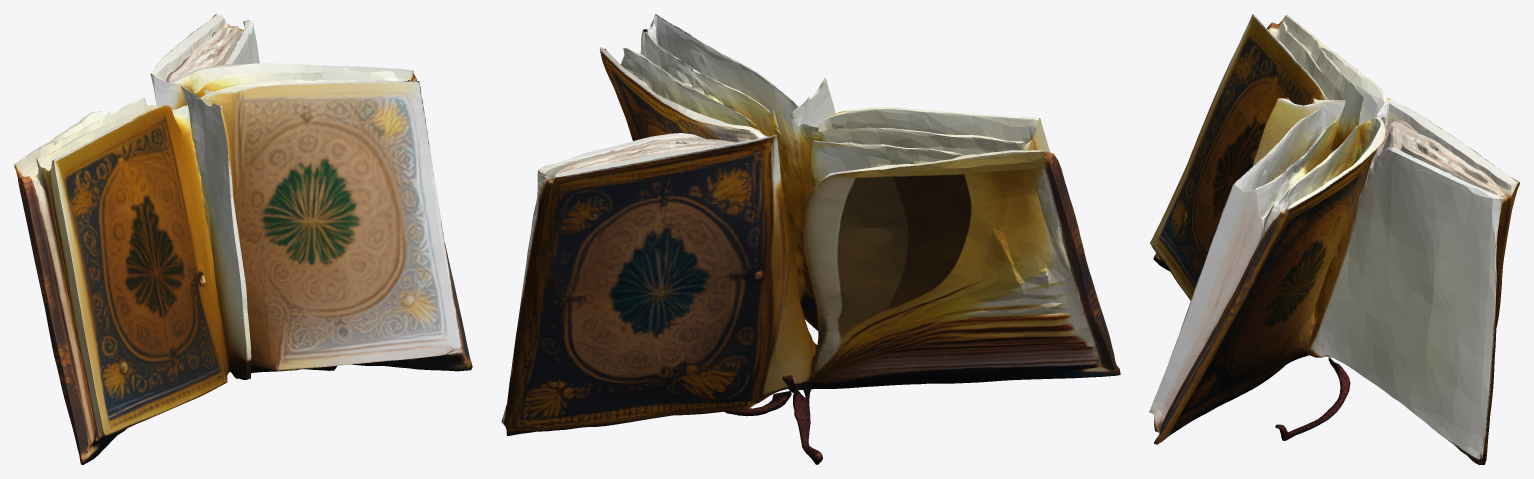
File: handmade-paper-journal-vintage.jpeg.glb
The picture shows the model from 3 angles, left to right: view 1: azimuth 30°, elevation 25°; view 2: azimuth 150°, elevation 25°; view 3: azimuth 270°, elevation 25°; orthographic projection. The views are drawn at different scales.
Visible parts, largest first — view 1: world; view 2: world; view 3: world.
Boxes of the visible parts, x1,y1,x2,y2 form: world: [14, 14, 472, 464]; world: [501, 14, 1120, 464]; world: [1149, 14, 1519, 464].
Bounding box in the file's own units: 1 × 0.7092 × 0.8241.
1 material, 1 textured.
